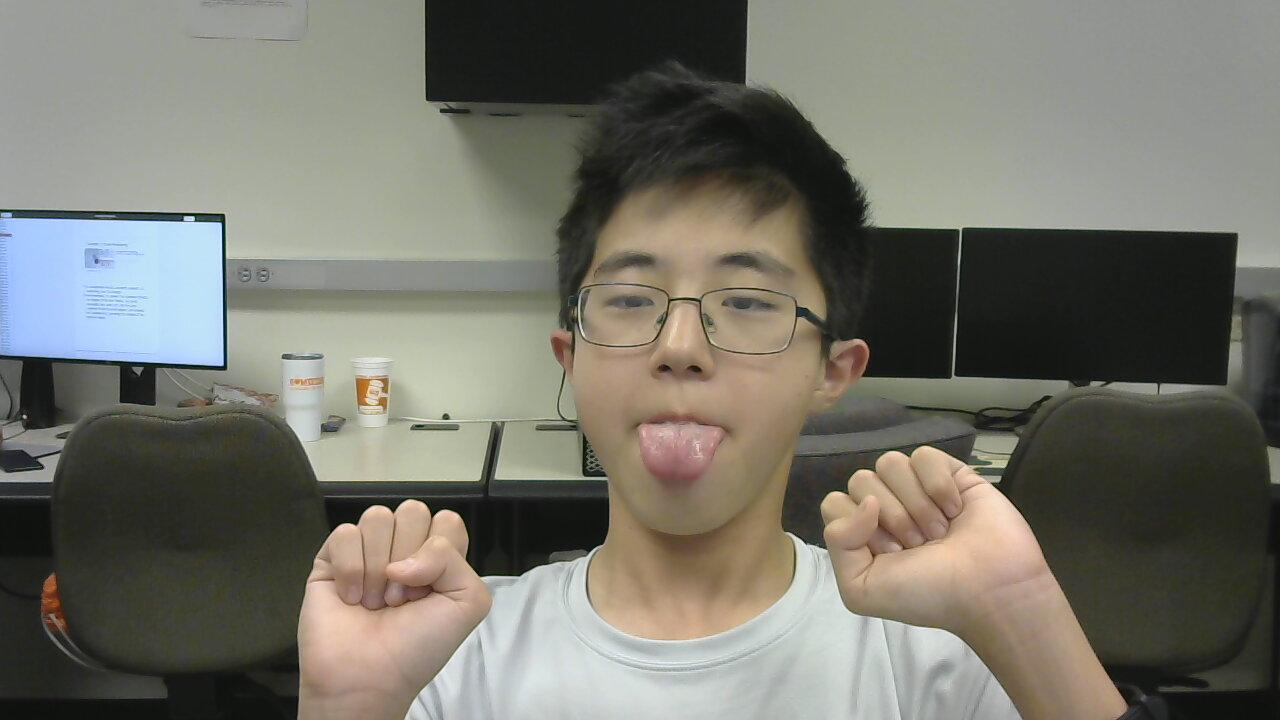fist: (271, 492, 502, 719)
